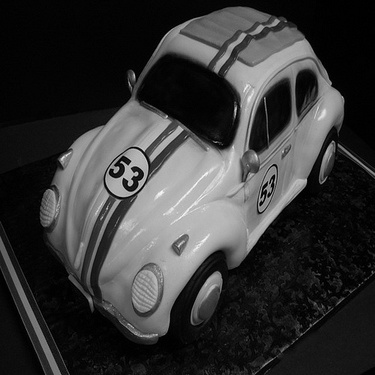car: (29, 9, 361, 359)
